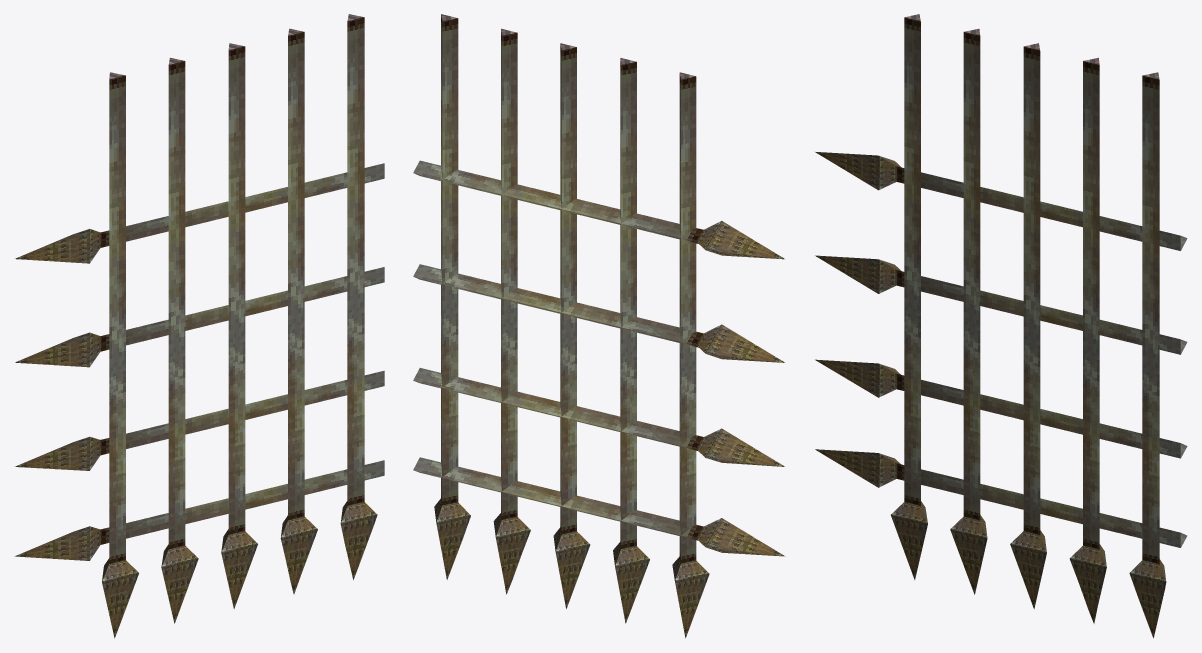
Rendered from C4SMVSTAGGATE.obj.
3 renders of one model, left to right at view 1: azimuth 30°, elevation 25°; view 2: azimuth 150°, elevation 25°; view 3: azimuth 330°, elevation 25°, orthographic.
Parts seen in each view (by area): view 1: Node 0; view 2: Node 0; view 3: Node 0.
Part boxes in pixels (<box>): Node 0: <box>14,14,384,638</box>; Node 0: <box>413,14,785,638</box>; Node 0: <box>815,14,1187,638</box>.
Bounding box in the file's own units: 8.18 × 11.95 × 0.63.
Materials: 2 (2 with a texture image).
